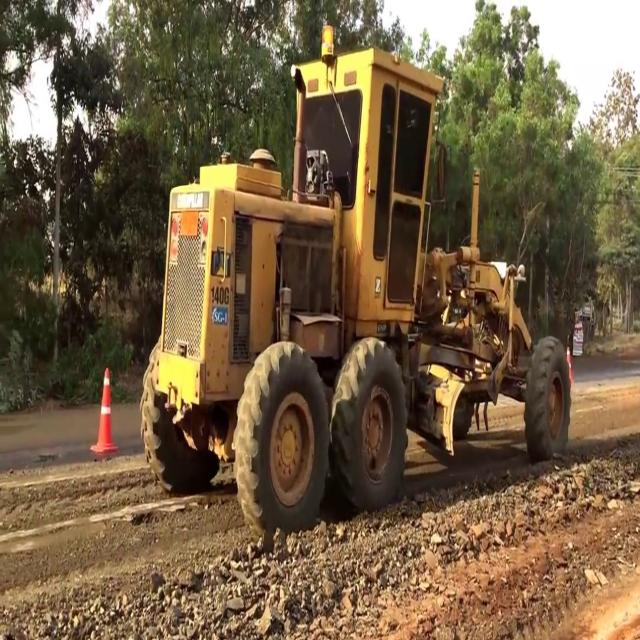buldozerpayloadergrader: (143, 53, 570, 517)
